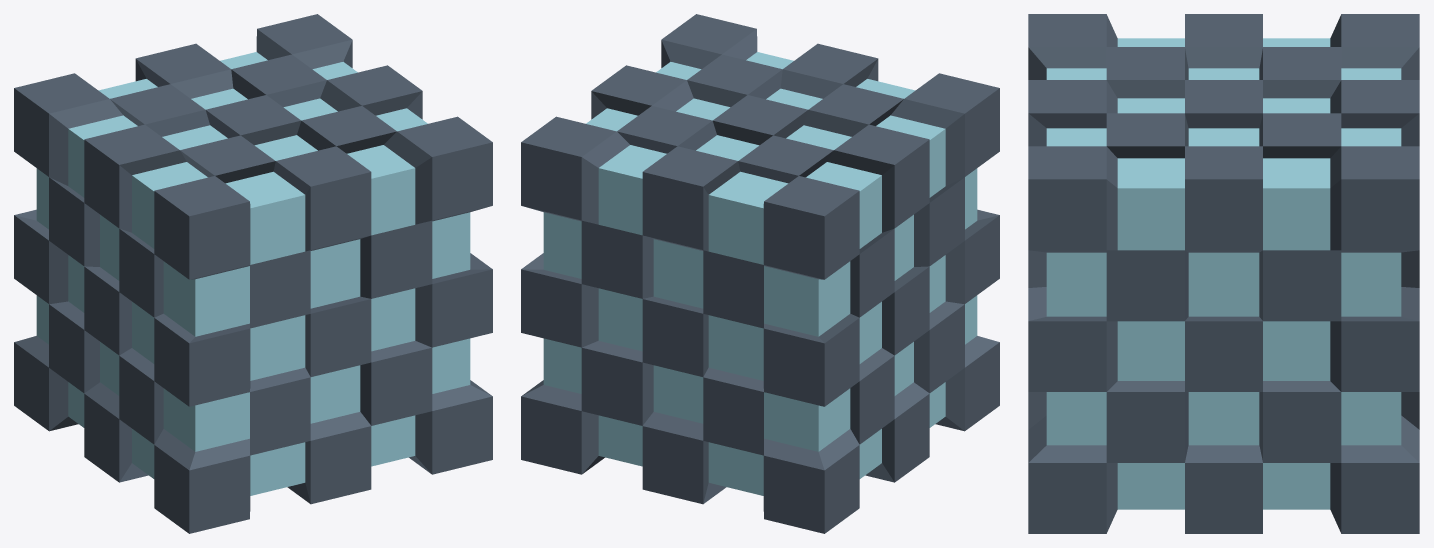
3 renders of one model, left to right at view 1: azimuth 30°, elevation 25°; view 2: azimuth 150°, elevation 25°; view 3: azimuth 270°, elevation 25°, orthographic. The views are drawn at different scales.
Visible parts, largest first — view 1: pCube5; view 2: pCube5; view 3: pCube5.
Part boxes in pixels (box(x1,y1,x2,y2)): pCube5: box(14, 14, 492, 533); pCube5: box(521, 14, 999, 533); pCube5: box(1028, 14, 1419, 533).
Size of the model in its own units: 53.16 by 53.16 by 53.16.
